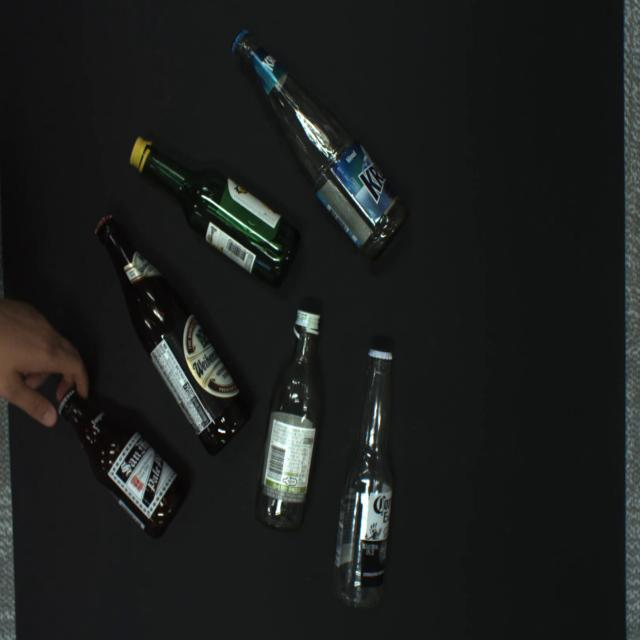beer-bottle: (230, 28, 408, 260), (94, 214, 252, 455), (58, 389, 185, 537), (332, 348, 394, 613)
soju-bottle: (130, 138, 300, 287), (254, 309, 321, 532)
